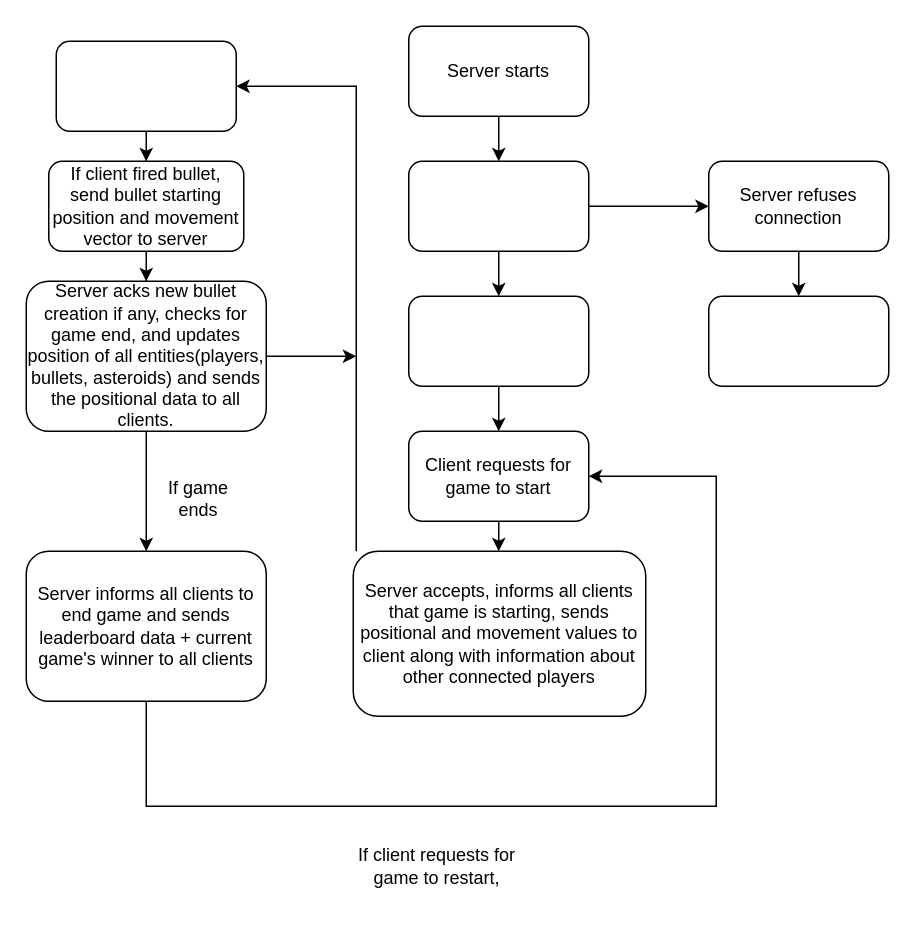
The diagram is 915 pixels wide and 938 high, and some of its shapes have lost their labels. The centre of each missing label's shape, as x and y in pixels:
"Client connects" goes at [498,205].
"Client sends current movement vector along with rotation information to server" goes at [145,85].
"Client terminates" goes at [798,340].
"Server accepts connection" goes at [498,340].
